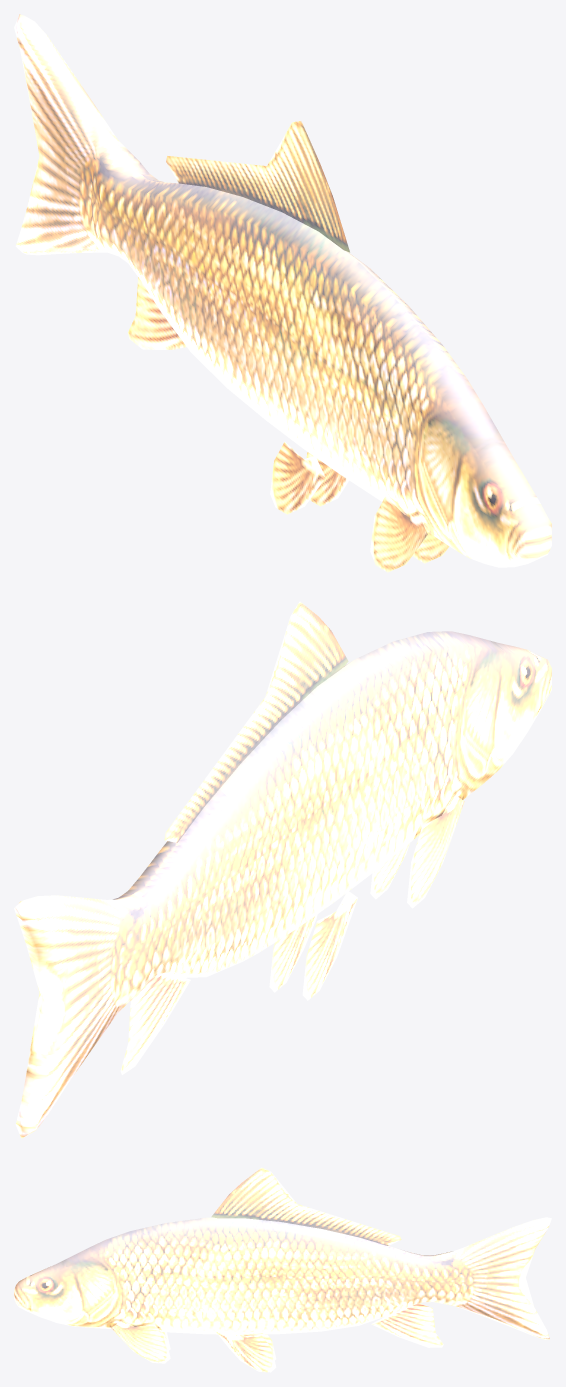
Rendered from fish.gltf.
3 renders of one model, top to bottom at view 1: azimuth 30°, elevation 25°; view 2: azimuth 150°, elevation 25°; view 3: azimuth 270°, elevation 25°, orthographic. The views are drawn at different scales.
Parts seen in each view (by area): view 1: fish_Cube; view 2: fish_Cube; view 3: fish_Cube.
Part boxes in pixels (x1=…): fish_Cube: x1=14, y1=14, x2=551, y2=572; fish_Cube: x1=14, y1=601, x2=551, y2=1138; fish_Cube: x1=14, y1=1167, x2=551, y2=1372.
Bounding box in the file's own units: 0.2435 × 2.09 × 5.06.
